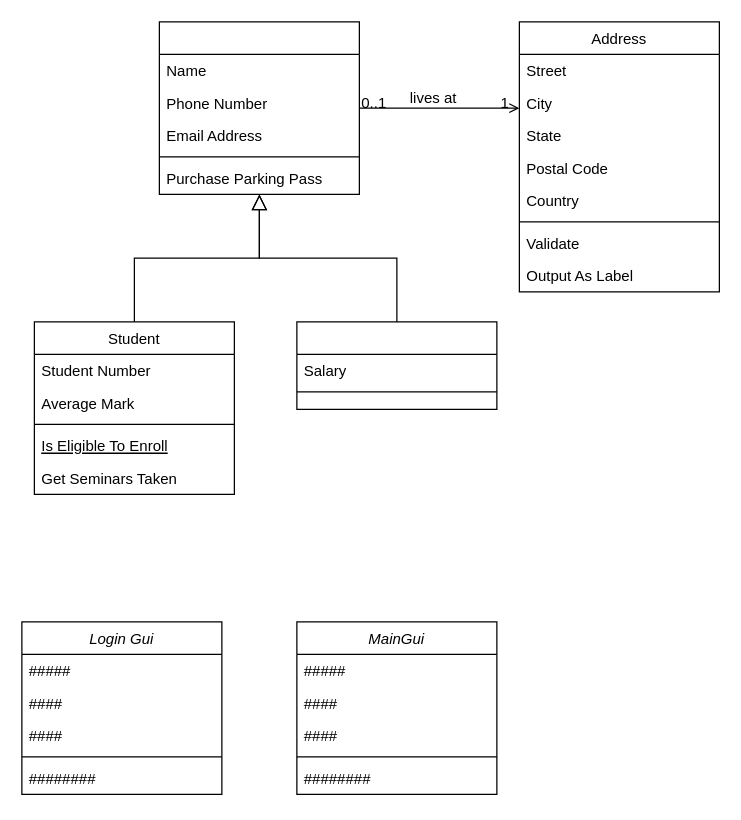
The diagram is 741 pixels wide and 820 high, and some of its shapes have lost their labels. Here are the shapes that lost their labels. From the top down, the box of each, then its label:
(158, 21, 359, 194): Person
(296, 321, 497, 409): Professor
